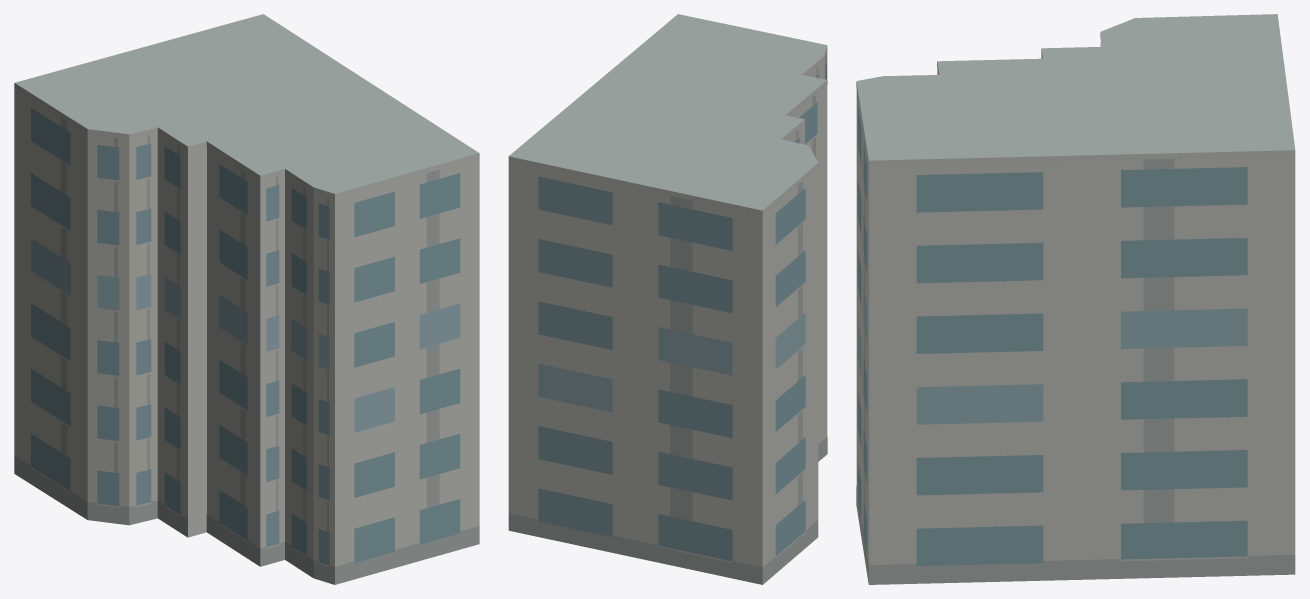
Rendered from survey-upis-33000443.glb.
3 views of the same model, side by side, from view 1: azimuth 30°, elevation 25°; view 2: azimuth 150°, elevation 25°; view 3: azimuth 270°, elevation 25° (orthographic). The views are drawn at different scales.
Visible parts, largest first — view 1: survey-upis-33000443.tmp; view 2: survey-upis-33000443.tmp; view 3: survey-upis-33000443.tmp.
Part boxes in pixels (x1=…): survey-upis-33000443.tmp: x1=14, y1=14, x2=479, y2=584; survey-upis-33000443.tmp: x1=508, y1=14, x2=827, y2=584; survey-upis-33000443.tmp: x1=856, y1=14, x2=1295, y2=584.
Bounding box in the file's own units: 13.57 × 18.3 × 17.17.
